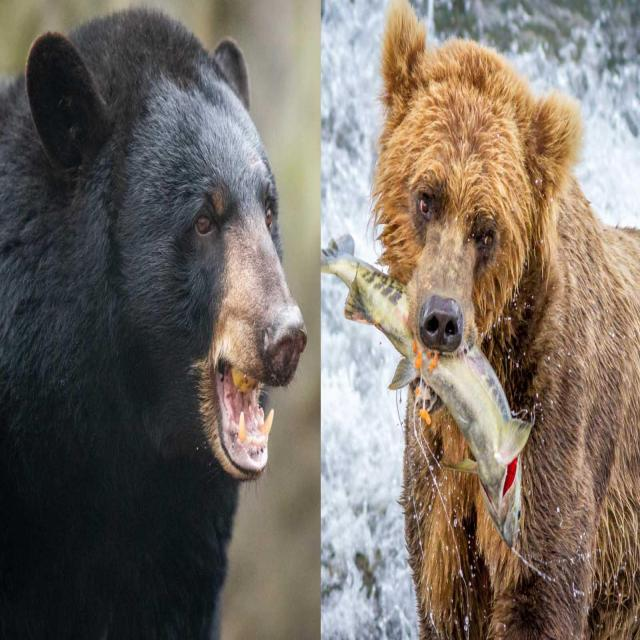Bear: (0, 6, 308, 640), (372, 0, 640, 640)
